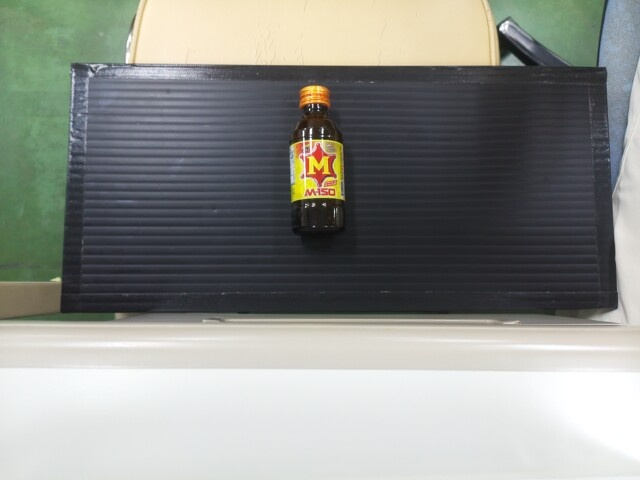glass_bottle: (285, 84, 346, 239)
